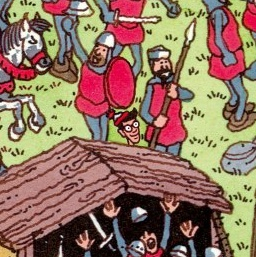waldo: (110, 112, 146, 145)
